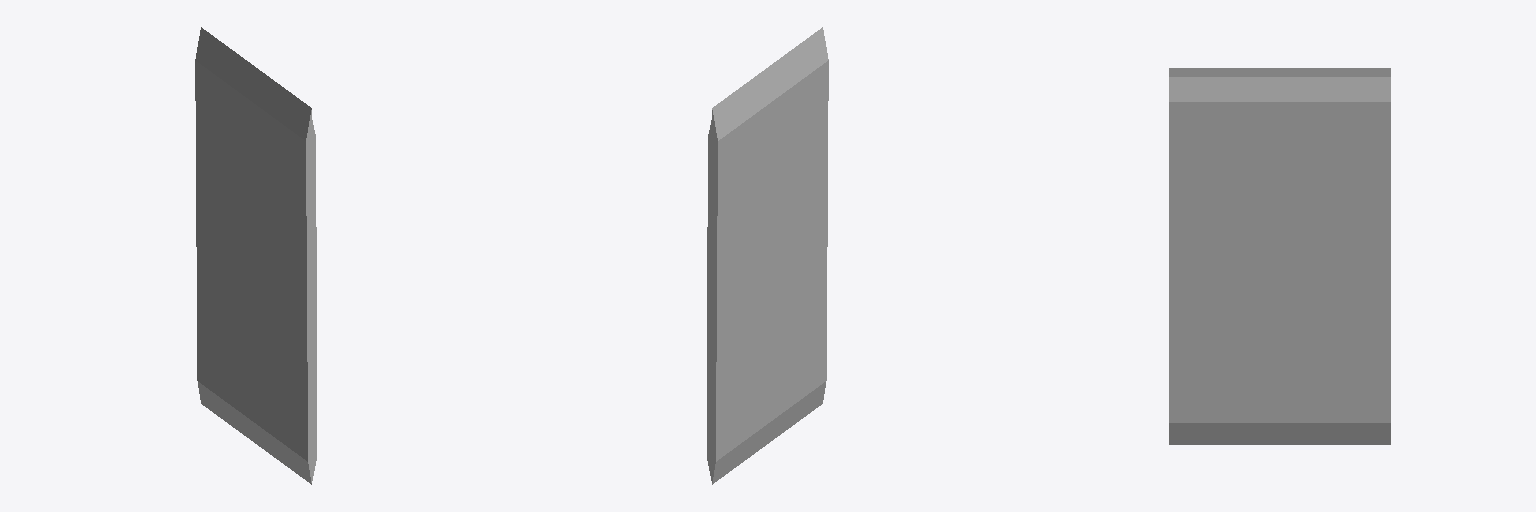
Rendered from Pacchetto_Mushoku_Tensei_ultimo.obj.
The picture shows the model from 3 angles: view 1: azimuth 30°, elevation 25°; view 2: azimuth 150°, elevation 25°; view 3: azimuth 270°, elevation 25°; orthographic projection.
Visible parts, largest first — view 1: Pacchetto_Material; view 2: Pacchetto_Material; view 3: Pacchetto_Material.002.
Boxes of the visible parts, x1,y1,x2,y2 form: Pacchetto_Material: [195, 27, 316, 484]; Pacchetto_Material: [707, 27, 828, 484]; Pacchetto_Material.002: [1169, 68, 1390, 444].
Bounding box in the file's own units: 1.25 × 41.54 × 22.14.